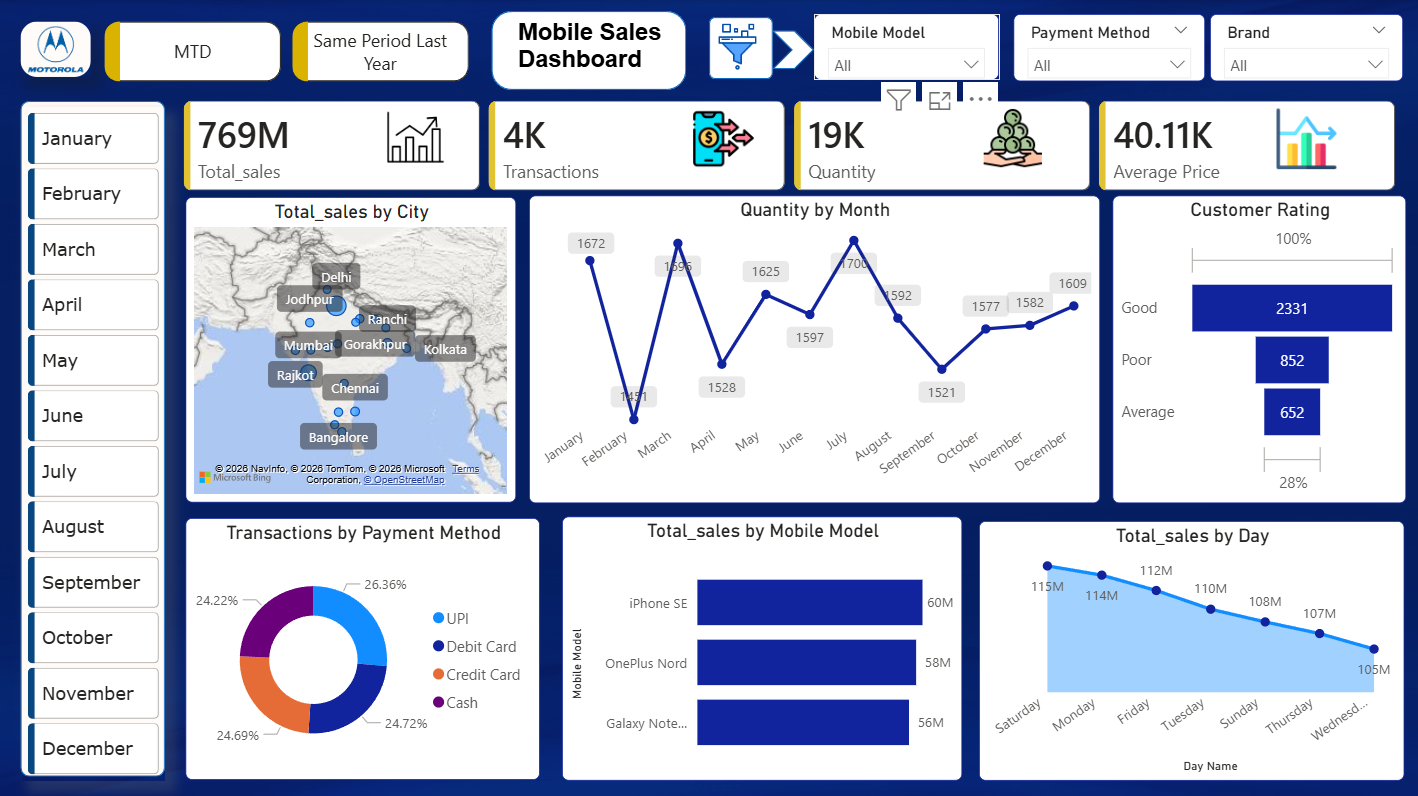

What the dashboard file says about the page in this screenshot:
{"tool":"powerbi","page":{"name":"Dashboard","canvas":[1280,720],"ordinal":0},"visuals":[{"type":"shape","box":[445.2,10.6,175.6,71.2],"z":0},{"type":"image","box":[19.7,19.7,63.6,50],"z":1000},{"type":"shape","box":[19.7,92.4,130.2,608.7],"z":2000},{"type":"advancedSlicerVisual","fields":{"Values":["Custom Calender.Dates.Variation.Date Hierarchy.Month"]},"box":[21.2,96.9,128.7,607.2],"z":3000},{"type":"cardVisual","fields":{"Data":["Mobile Sales Data.Total_sales","Mobile Sales Data.Transactions","Mobile Sales Data.Quantity","Mobile Sales Data.Average Price"]},"box":[149.9,74.2,1129.6,115.1],"z":4000},{"type":"image","box":[340.7,92.4,71.2,65.1],"z":5000},{"type":"image","box":[620.8,98.4,66.6,54.5],"z":6000},{"type":"image","box":[869.2,96.9,90.9,56],"z":7000},{"type":"image","box":[1137.2,98.4,84.8,54.5],"z":8000},{"type":"slicer","fields":{"Values":["Mobile Sales Data.Mobile Model"]},"box":[735.9,13.6,166.6,59.1],"z":9000},{"type":"slicer","fields":{"Values":["Mobile Sales Data.Payment Method"]},"box":[914.6,13.6,172.6,60.6],"z":10000},{"type":"slicer","fields":{"Values":["Mobile Sales Data.Brand"]},"box":[1091.7,13.6,174.1,60.6],"z":11000},{"type":"shape","box":[640.5,16.7,57.5,56],"z":12000},{"type":"image","box":[640.5,21.2,51.5,42.4],"z":13000},{"type":"textbox","box":[463.3,12.1,139.3,65.1],"z":14000},{"type":"shape","box":[698,28.8,37.9,34.8],"z":15000},{"type":"map","fields":{"Category":["Mobile Sales Data.City"],"Size":["Mobile Sales Data.Total_sales"]},"box":[169.6,178.7,298.3,275.6],"z":16000},{"type":"lineChart","fields":{"Y":["Mobile Sales Data.Quantity"],"Category":["Custom Calender.Dates.Variation.Date Hierarchy.Month"]},"box":[478.5,177.2,514.8,277.1],"z":17000},{"type":"funnel","title":"Customer Rating","fields":{"Category":["Mobile Sales Data.Rating"],"Y":["CountNonNull(Mobile Sales Data.Customer Age)"]},"box":[1003.9,177.2,265,277.1],"z":18000},{"type":"donutChart","fields":{"Y":["Mobile Sales Data.Transactions"],"Category":["Mobile Sales Data.Payment Method"]},"box":[169.6,467.9,319.5,236.2],"z":19000},{"type":"barChart","fields":{"Y":["Mobile Sales Data.Total_sales"],"Category":["Mobile Sales Data.Mobile Model"]},"box":[508.5,466.2,356.3,238],"z":20000},{"type":"areaChart","title":"Total_sales by Day","fields":{"Y":["Mobile Sales Data.Total_sales"],"Category":["Custom Calender.Day Name"]},"box":[884.4,470.6,383.6,234.3],"z":21000},{"type":"pageNavigator","box":[95.4,19.7,328.6,54.5],"z":22000}]}

Visuals, with their boxes in screenshot pixels (x1, y1, x2, y2), scaled from the page's 1280x720 canvas onto the 1418x796 screenshot:
shape: bbox=(493, 12, 688, 90)
image: bbox=(22, 22, 92, 77)
shape: bbox=(22, 102, 166, 775)
advancedSlicerVisual - Custom Calender.Dates.Variation.Date Hierarchy.Month: bbox=(23, 107, 166, 778)
cardVisual - Mobile Sales Data.Total_sales x Mobile Sales Data.Transactions: bbox=(166, 82, 1417, 209)
image: bbox=(377, 102, 456, 174)
image: bbox=(688, 109, 762, 169)
image: bbox=(963, 107, 1064, 169)
image: bbox=(1260, 109, 1354, 169)
slicer - Mobile Sales Data.Mobile Model: bbox=(815, 15, 1000, 80)
slicer - Mobile Sales Data.Payment Method: bbox=(1013, 15, 1204, 82)
slicer - Mobile Sales Data.Brand: bbox=(1209, 15, 1402, 82)
shape: bbox=(710, 18, 773, 80)
image: bbox=(710, 23, 767, 70)
textbox: bbox=(513, 13, 668, 85)
shape: bbox=(773, 32, 815, 70)
map - Mobile Sales Data.City x Mobile Sales Data.Total_sales: bbox=(188, 198, 518, 502)
lineChart - Mobile Sales Data.Quantity x Custom Calender.Dates.Variation.Date Hierarchy.Month: bbox=(530, 196, 1100, 502)
"Customer Rating" funnel: bbox=(1112, 196, 1406, 502)
donutChart - Mobile Sales Data.Transactions x Mobile Sales Data.Payment Method: bbox=(188, 517, 542, 778)
barChart - Mobile Sales Data.Total_sales x Mobile Sales Data.Mobile Model: bbox=(563, 515, 958, 779)
"Total_sales by Day" areaChart: bbox=(980, 520, 1405, 779)
pageNavigator: bbox=(106, 22, 470, 82)
